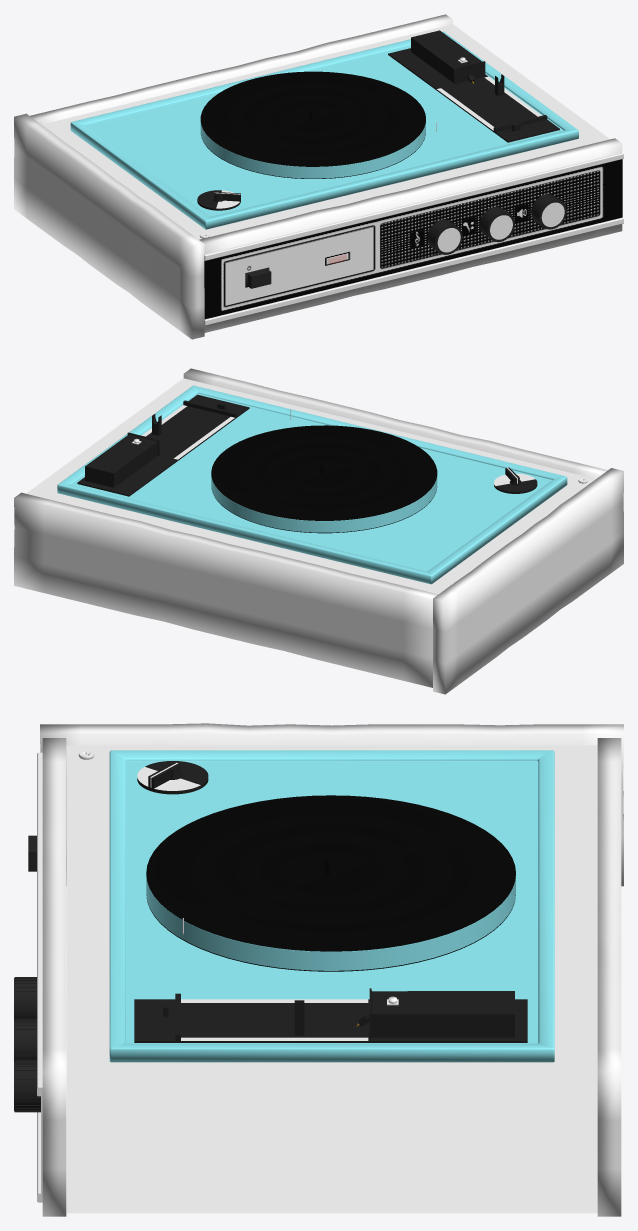
File: empty-vinyl.glb
3 renders of one model, top to bottom at view 1: azimuth 30°, elevation 25°; view 2: azimuth 150°, elevation 25°; view 3: azimuth 270°, elevation 25°, orthographic. The views are drawn at different scales.
Parts seen in each view (by area): view 1: Cube, Plane.004, Plane.003, Cylinder.009, Plane.007, Plane.002, Plane.001, Cube.006, Cube.004, Cylinder.001, Cylinder.003, Cylinder.002 (+2 smaller); view 2: Plane.001, Plane.004, Plane.003, Cylinder.009, Plane.007, Plane.002, Cube.006, Cube.004, Cylinder.008; view 3: Plane.005, Plane.004, Cylinder.009, Plane.007, Plane.003, Plane.001, Plane.002, Cube.006, Cube.004, Cube, Cylinder.008, Cylinder.003 (+2 smaller).
Boxes of the visible parts, left/top/right/bottom form: Cube: left=204, top=152, right=623, bottom=325; Plane.004: left=70, top=31, right=578, bottom=229; Plane.003: left=14, top=113, right=204, bottom=339; Cylinder.009: left=200, top=71, right=425, bottom=178; Plane.007: left=42, top=24, right=609, bottom=239; Plane.002: left=199, top=138, right=622, bottom=332; Plane.001: left=30, top=14, right=452, bottom=124; Cube.006: left=388, top=48, right=559, bottom=142; Cube.004: left=411, top=30, right=485, bottom=84; Cylinder.001: left=427, top=219, right=462, bottom=254; Cylinder.003: left=531, top=194, right=566, bottom=229; Cylinder.002: left=479, top=206, right=514, bottom=242; Plane.001: left=14, top=492, right=438, bottom=687; Plane.004: left=57, top=385, right=567, bottom=584; Plane.003: left=433, top=468, right=623, bottom=694; Cylinder.009: left=211, top=425, right=437, bottom=533; Plane.007: left=26, top=378, right=595, bottom=594; Plane.002: left=183, top=368, right=607, bottom=478; Cube.006: left=77, top=394, right=249, bottom=496; Cube.004: left=85, top=432, right=159, bottom=487; Cylinder.008: left=494, top=467, right=537, bottom=493; Plane.005: left=66, top=1080, right=597, bottom=1213; Plane.004: left=109, top=750, right=554, bottom=1062; Cylinder.009: left=146, top=795, right=515, bottom=971; Plane.007: left=66, top=745, right=597, bottom=1080; Plane.003: left=40, top=723, right=623, bottom=886; Plane.001: left=597, top=738, right=621, bottom=1216; Plane.002: left=42, top=738, right=66, bottom=1216; Cube.006: left=134, top=993, right=527, bottom=1042; Cube.004: left=358, top=988, right=514, bottom=1038; Cube: left=37, top=752, right=42, bottom=1202; Cylinder.008: left=137, top=761, right=208, bottom=794; Cylinder.003: left=14, top=1060, right=40, bottom=1112.
Bounding box in the file's own units: 0.5148 × 0.1313 × 0.3847.
18 materials, 5 textured.
